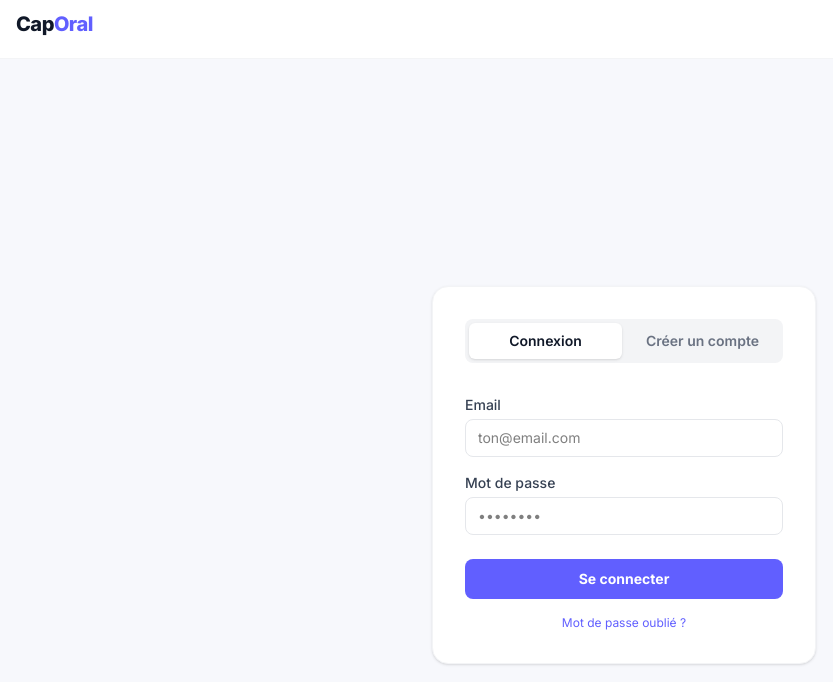
Test: ConnexionPage › shows reset sent message after successful reset
Click the button "Mot de passe oublié ?" at {"x": 624, "y": 622}, box [465,614,783,630]
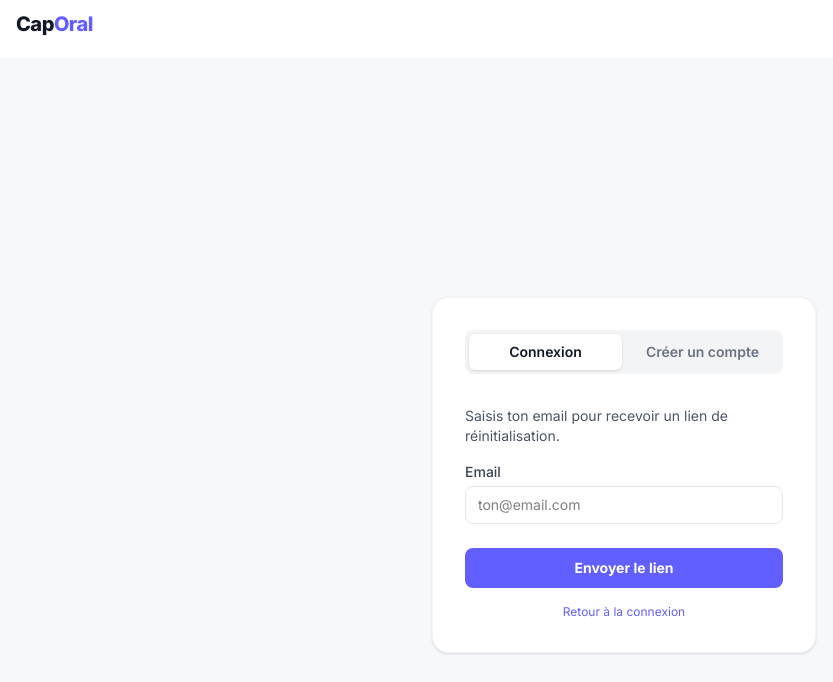
Type "test@test.com" into the field with placeholder "ton@email.com" at {"x": 624, "y": 504}, box [465,486,783,524]
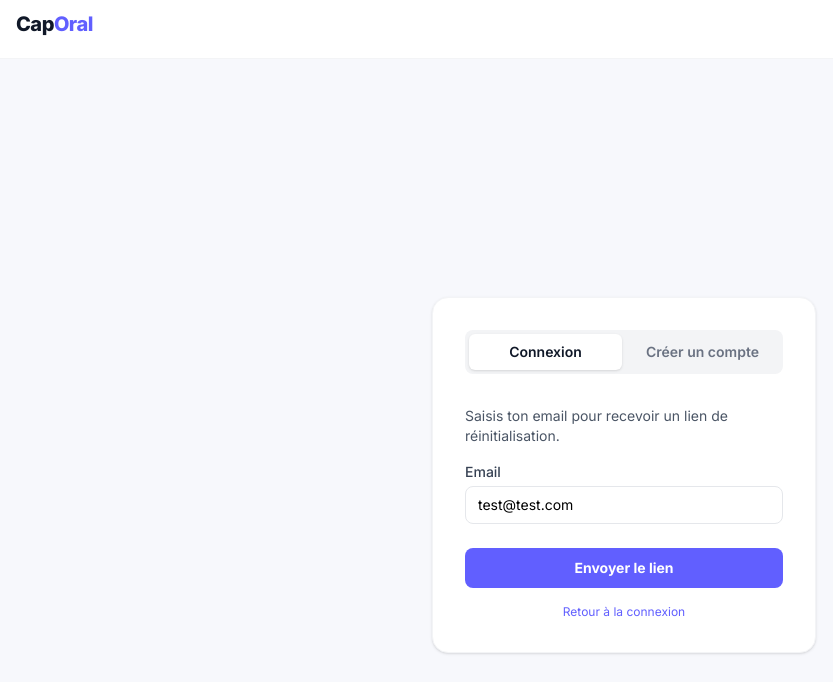
Submit the text "Envoyer le lien", box [465,406,783,620]
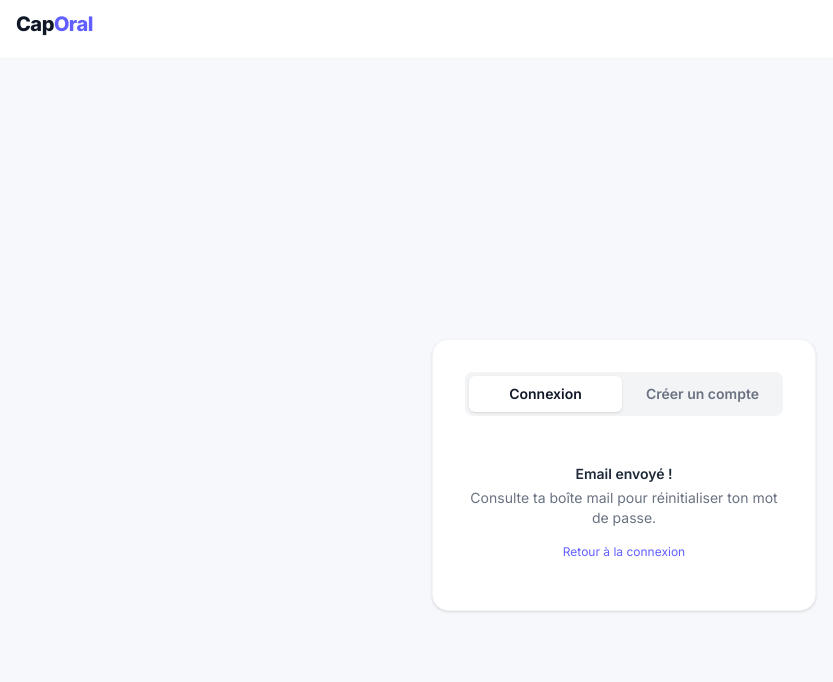
Now the text "Email envoyé !" is shown, box [575,464,672,482]
